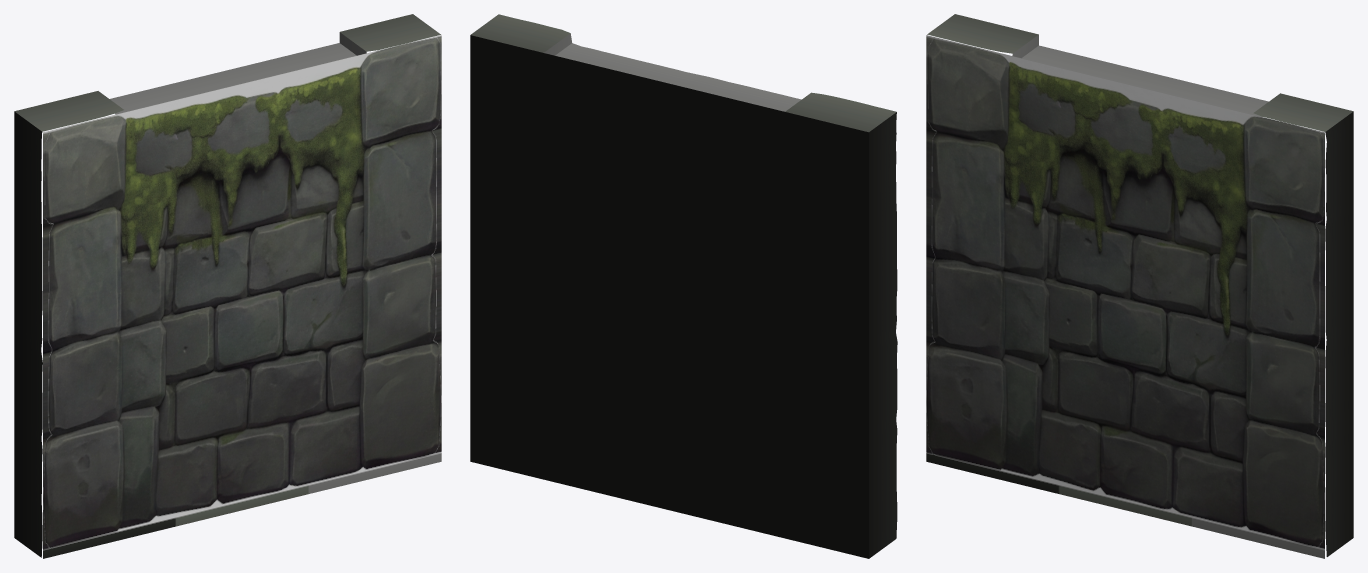
Rendered from wall_moss.glb.
The picture shows the model from 3 angles, left to right: view 1: azimuth 30°, elevation 25°; view 2: azimuth 150°, elevation 25°; view 3: azimuth 330°, elevation 25°; orthographic projection.
Visible parts, largest first — view 1: wall_moss; view 2: wall_moss; view 3: wall_moss.
Part boxes in pixels (x1,y1,x2,y2): wall_moss: (14, 14, 441, 558); wall_moss: (470, 14, 897, 558); wall_moss: (926, 14, 1353, 558).
Bounding box in the file's own units: 2 × 2.05 × 0.25.
Materials: 1 (1 with a texture image).
